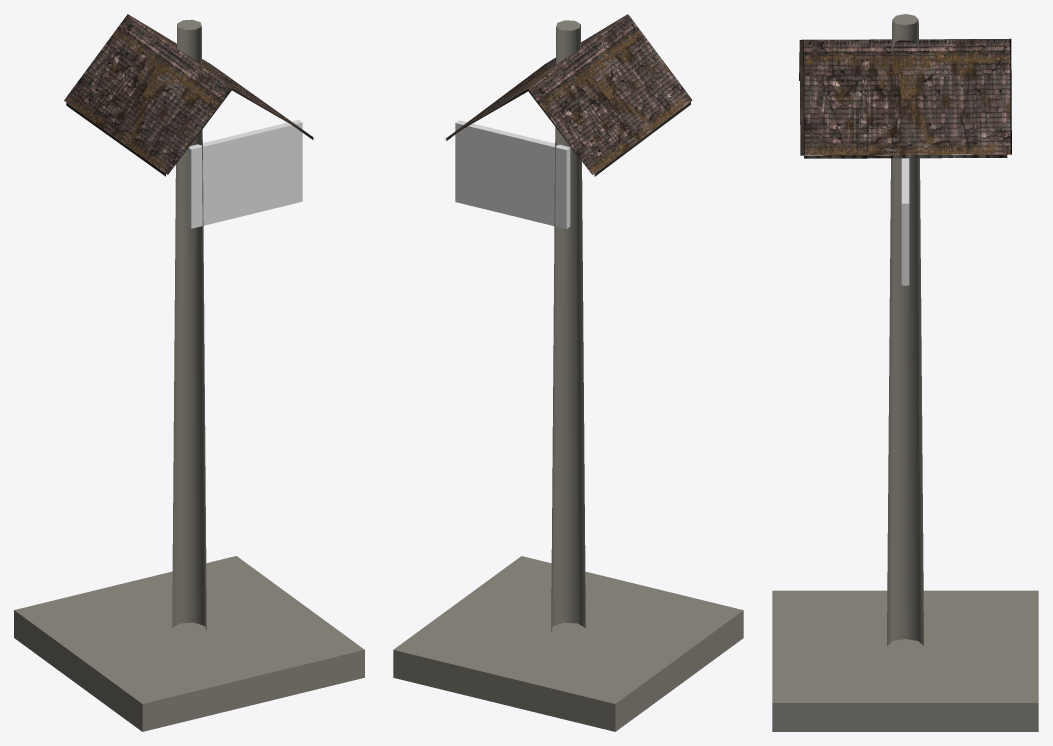
The picture shows the model from 3 angles, left to right: view 1: azimuth 30°, elevation 25°; view 2: azimuth 150°, elevation 25°; view 3: azimuth 270°, elevation 25°; orthographic projection. The views are drawn at different scales.
Visible parts, largest first — view 1: dweller_building_claim_post; view 2: dweller_building_claim_post; view 3: dweller_building_claim_post.
Part boxes in pixels (<box>): dweller_building_claim_post: <box>14,14,364,731</box>; dweller_building_claim_post: <box>393,14,743,731</box>; dweller_building_claim_post: <box>772,14,1038,731</box>.
Bounding box in the file's own units: 1 × 2.72 × 1.
3 materials, 1 textured.
